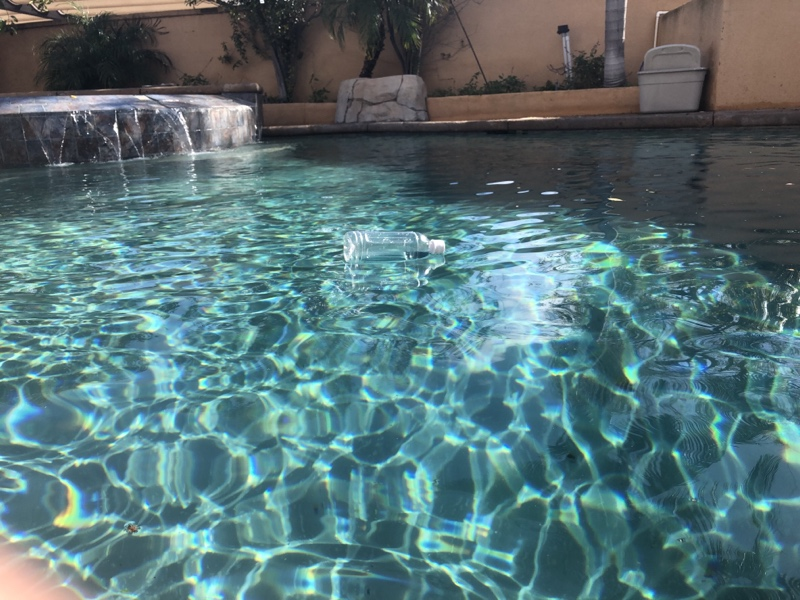Plastic Bottle: (342, 227, 446, 267)
